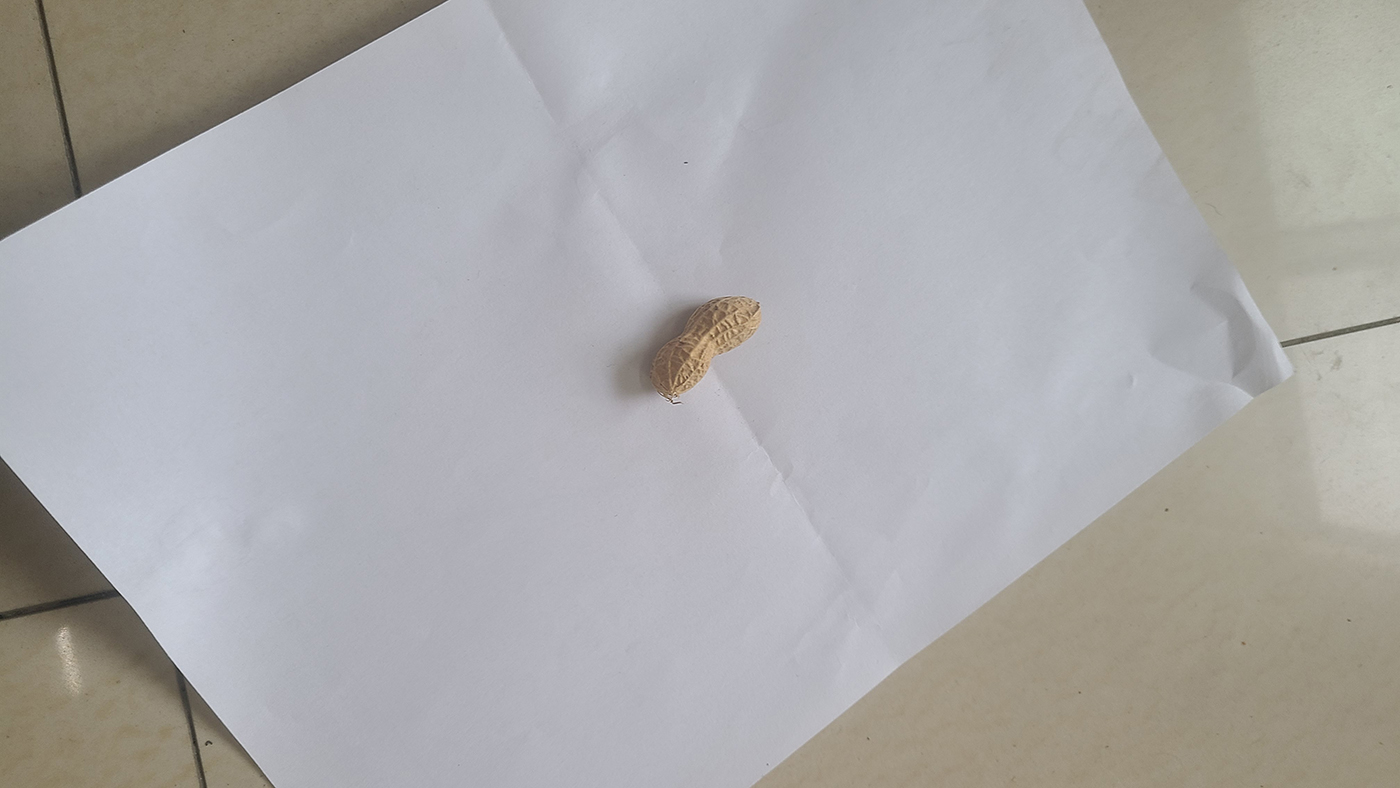h: (649, 294, 762, 400)
